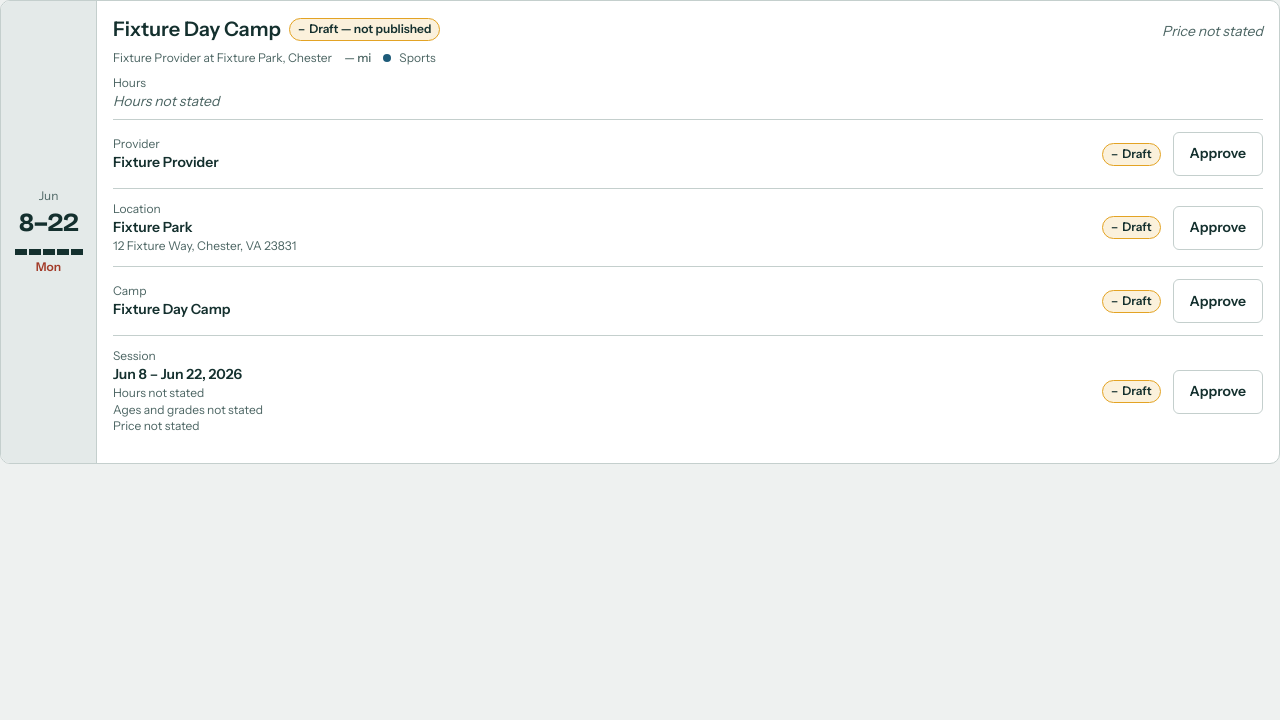
Scenario: a session that spans more than 14 days › asks first, naming the span, and sends nothing yet
Click the button with aria-label "Approve session: Fixture Day Camp": coordinates (1218, 392) [1172,370,1263,414]
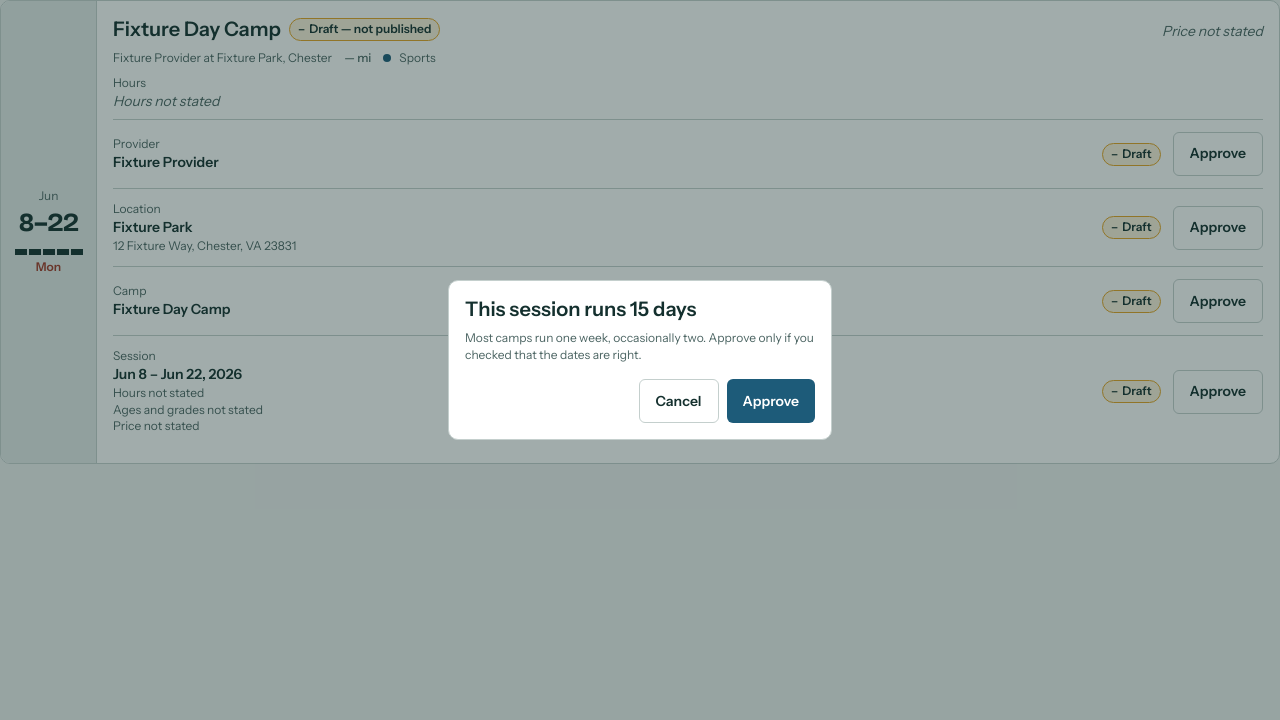
Check: the dialog shows "15 days", box [448,280,832,440]
